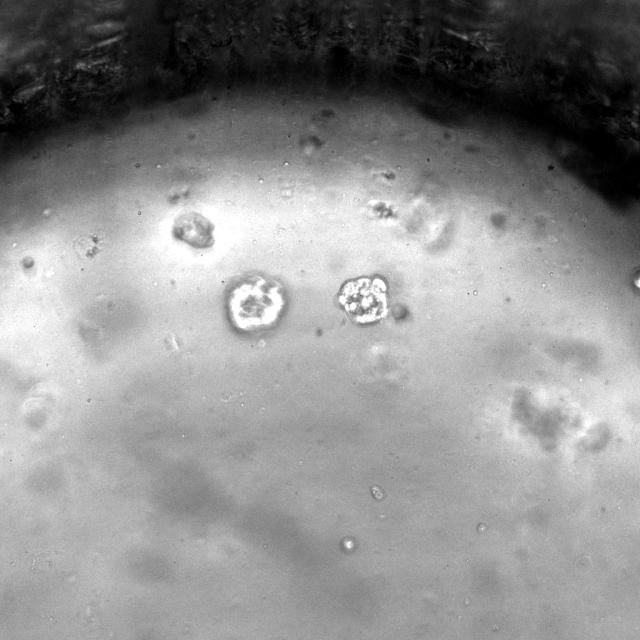organoid: (226, 274, 286, 333), (339, 277, 388, 323), (172, 212, 213, 247)
